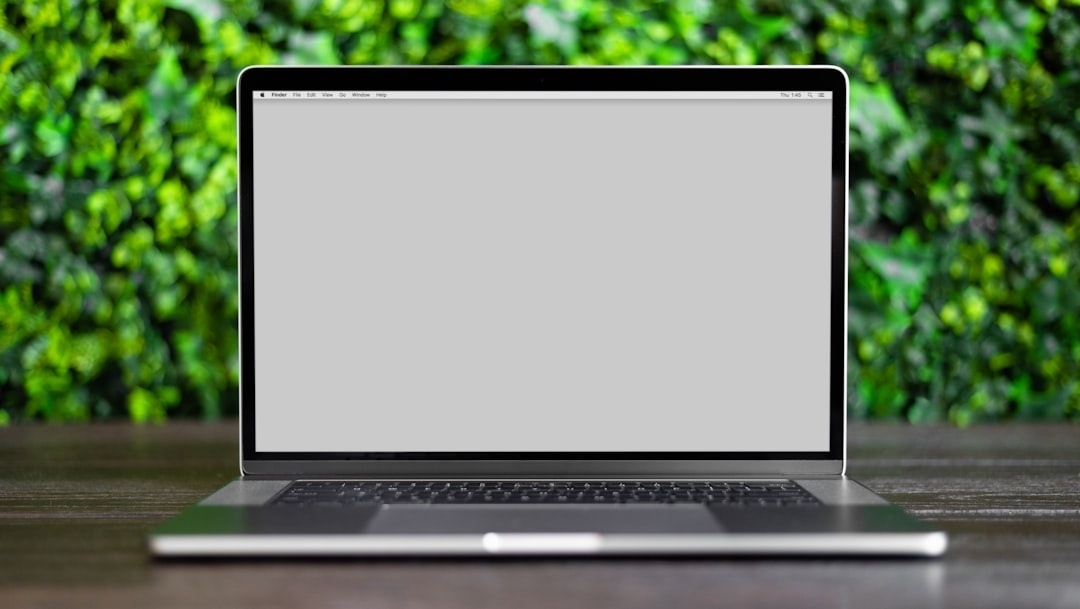laptop: (126, 17, 971, 587)
